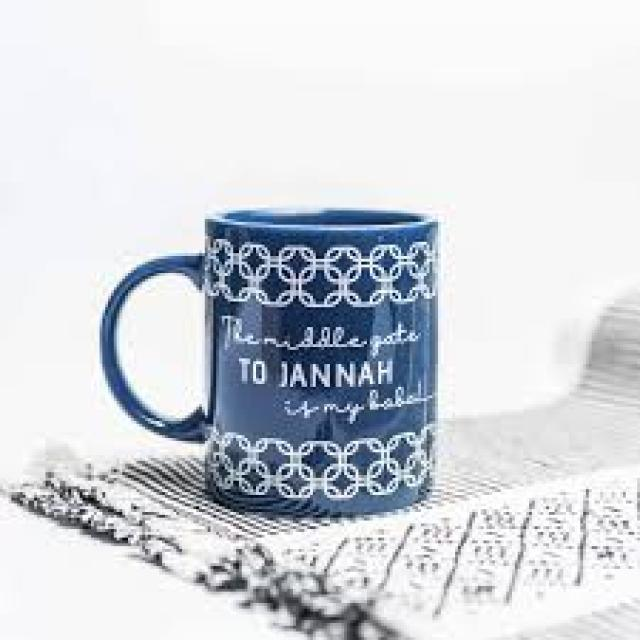taza: (100, 205, 440, 518)
